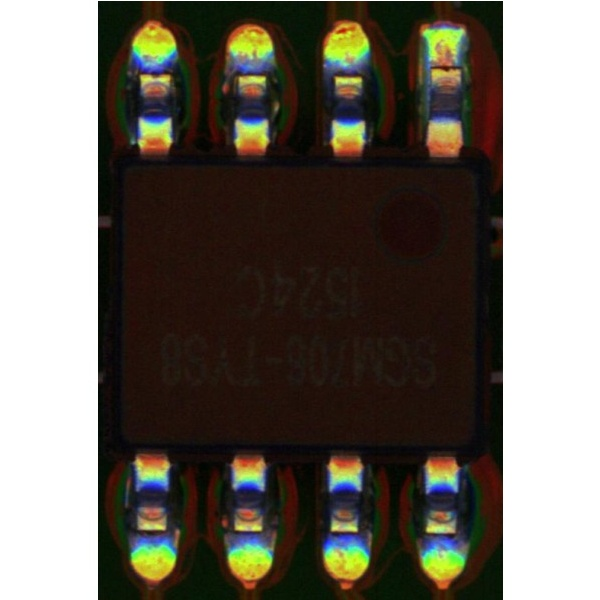Bad_podu: (431, 51, 457, 76)
